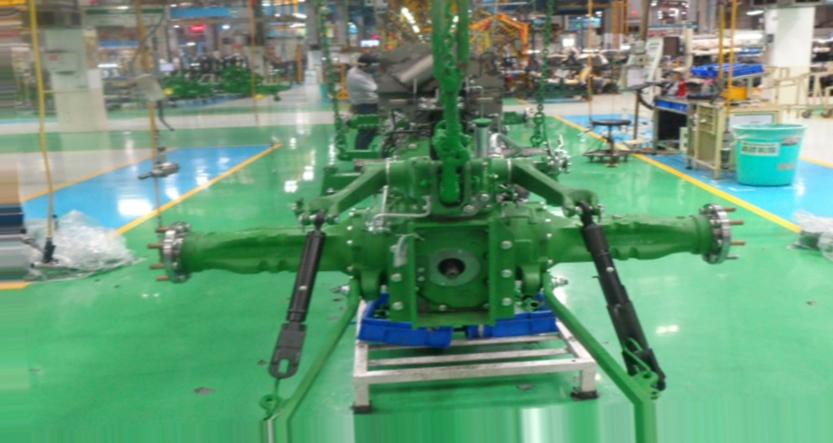engine: (146, 0, 744, 348)
